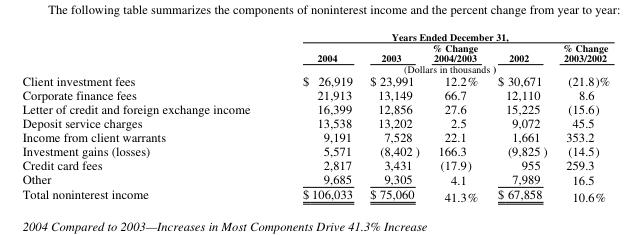table: (21, 29, 609, 204)
table column: (21, 29, 275, 204), (275, 29, 360, 204), (487, 29, 554, 204), (360, 29, 425, 204), (425, 29, 487, 204), (554, 29, 609, 204)
table column header: (21, 29, 609, 73)
table row: (21, 41, 609, 63), (21, 185, 609, 204), (21, 73, 609, 87), (21, 87, 609, 101), (21, 101, 609, 115), (21, 115, 609, 129), (21, 129, 609, 143), (21, 143, 609, 157), (21, 157, 609, 171), (21, 171, 609, 185), (21, 29, 609, 41), (21, 63, 609, 73)
table spanning cell: (275, 29, 609, 41), (275, 63, 609, 73)
